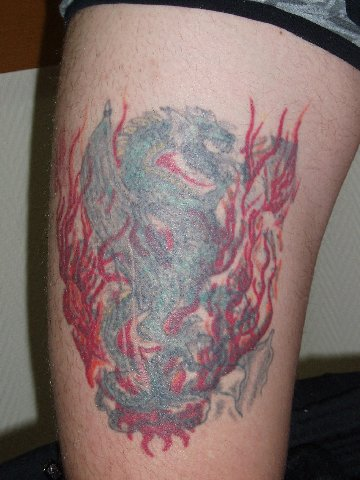tatu6_drakon: (17, 65, 309, 446)
